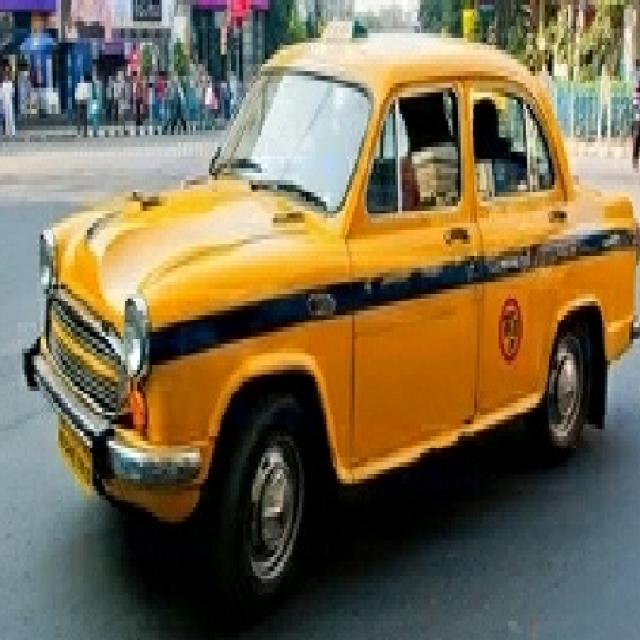ambasador_taxi: (32, 25, 640, 601)
